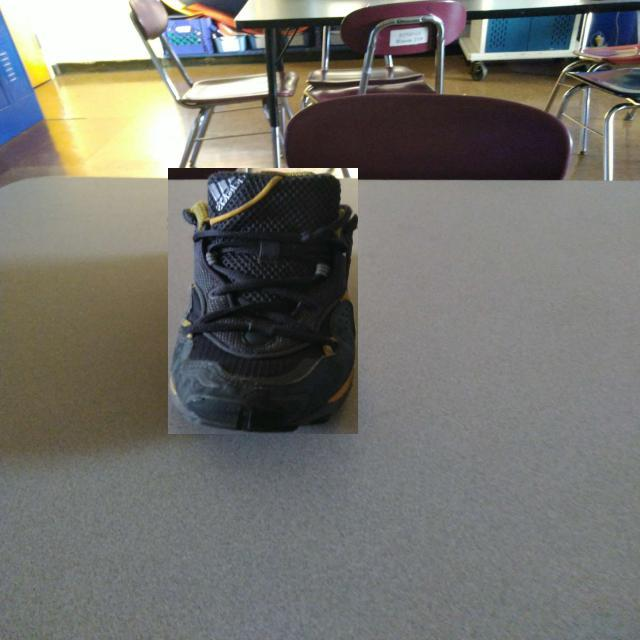shoe: (168, 168, 358, 434)
